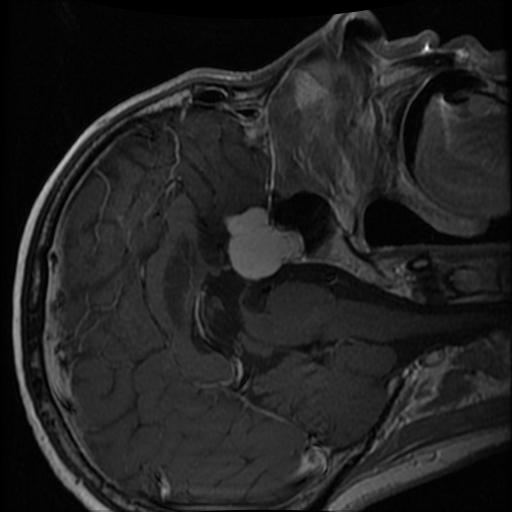meningioma: (224, 207, 304, 279)
